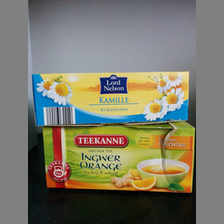tea: (41, 124, 195, 193), (31, 71, 190, 124)
